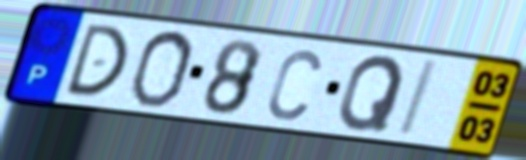8: (201, 37, 264, 117)
C: (264, 46, 324, 123)
D: (61, 21, 130, 98)
I: (395, 58, 442, 140)
O: (126, 29, 197, 110)
Q: (335, 52, 408, 133)
